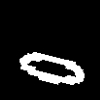chain: (20, 52, 83, 84)
